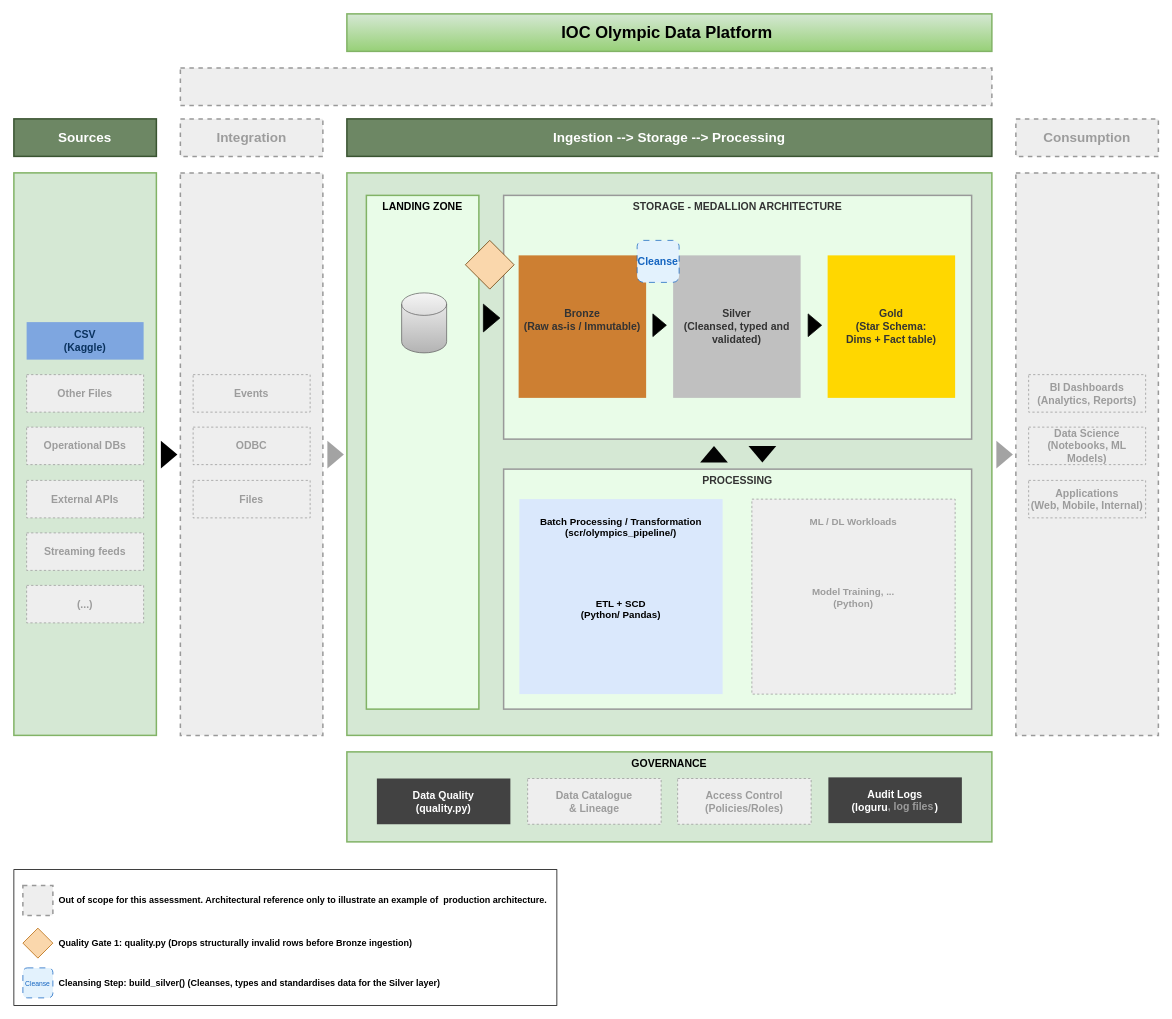
The diagram is 1172 pixels wide and 1019 high, and some of its shapes have lost their labels. Here are the shapes that lost their labels. From the top down, the centre of each, then its label:
At point (585, 86): "ORCHESTRATION Scheduling & Monitoring".
At point (489, 264): "QG 1".
At point (424, 322): "raw/".
At point (37, 942): "QG".
